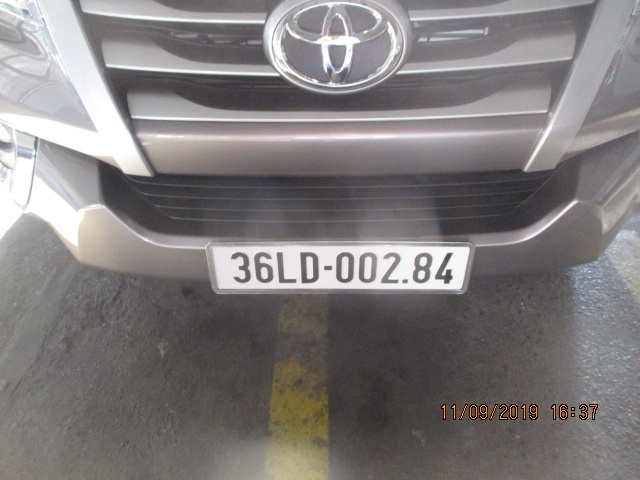number_plate: (224, 247, 461, 288)
